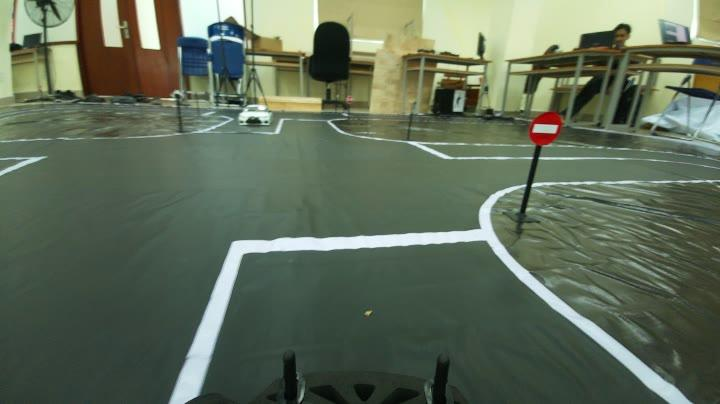car: (231, 102, 272, 129)
no_entry: (530, 110, 566, 148)
